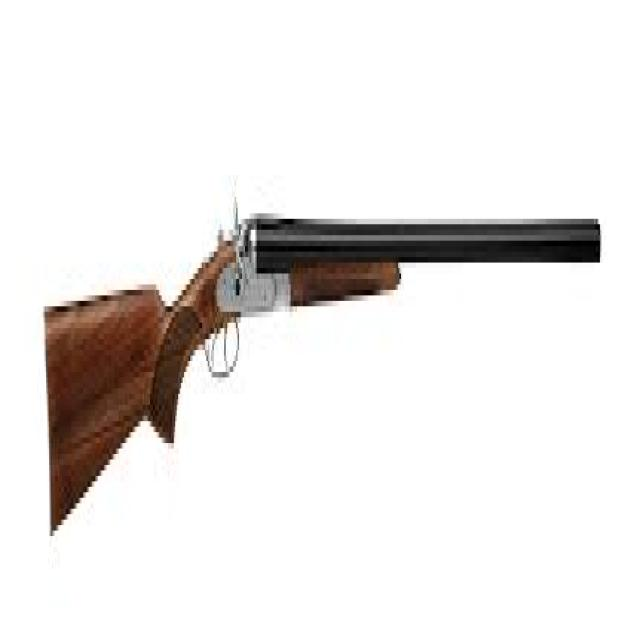rifle: (42, 199, 604, 548)
